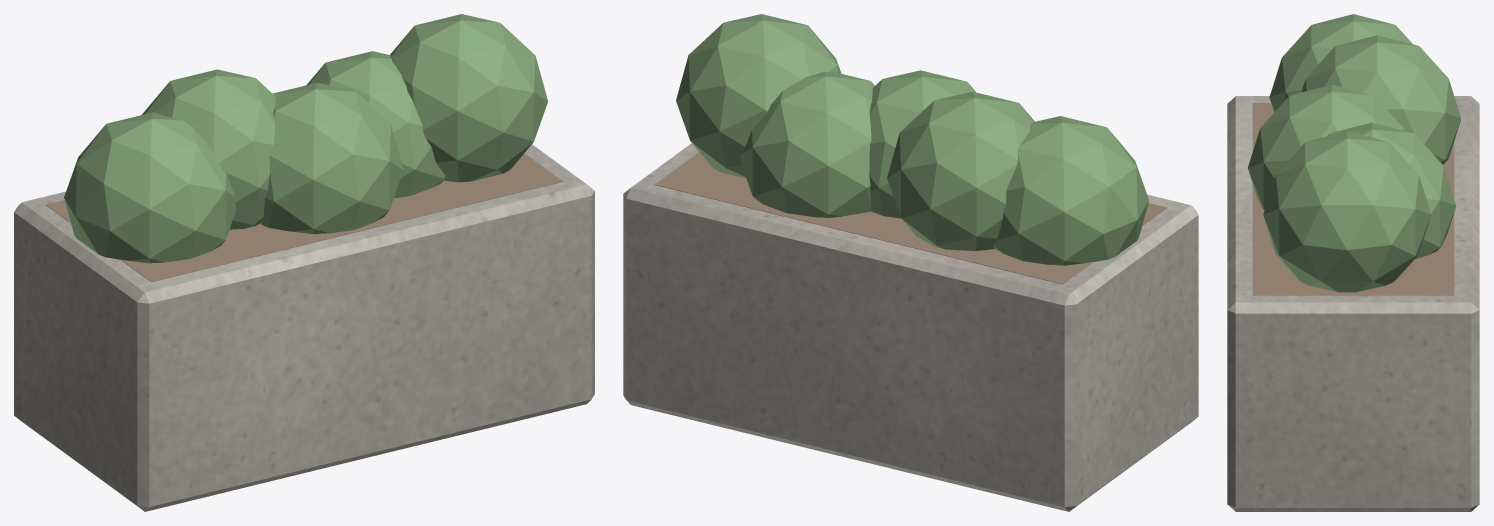
File: planter.glb
3 views of the same model, side by side, from view 1: azimuth 30°, elevation 25°; view 2: azimuth 150°, elevation 25°; view 3: azimuth 270°, elevation 25° (orthographic). The views are drawn at different scales.
Parts seen in each view (by area): view 1: planter_concrete, planter_hedge, planter_mulch; view 2: planter_concrete, planter_hedge, planter_mulch; view 3: planter_concrete, planter_hedge, planter_mulch.
Part boxes in pixels (left/top/right/bottom): planter_concrete: left=14, top=144, right=594, bottom=511; planter_hedge: left=64, top=14, right=547, bottom=263; planter_mulch: left=46, top=153, right=563, bottom=282; planter_concrete: left=623, top=143, right=1198, bottom=511; planter_hedge: left=676, top=14, right=1148, bottom=265; planter_mulch: left=655, top=152, right=1167, bottom=284; planter_concrete: left=1227, top=96, right=1479, bottom=511; planter_hedge: left=1248, top=14, right=1461, bottom=292; planter_mulch: left=1252, top=103, right=1454, bottom=295.
Bounding box in the file's own units: 1.2 × 0.8959 × 0.6.
Materials: 3 (1 with a texture image).
